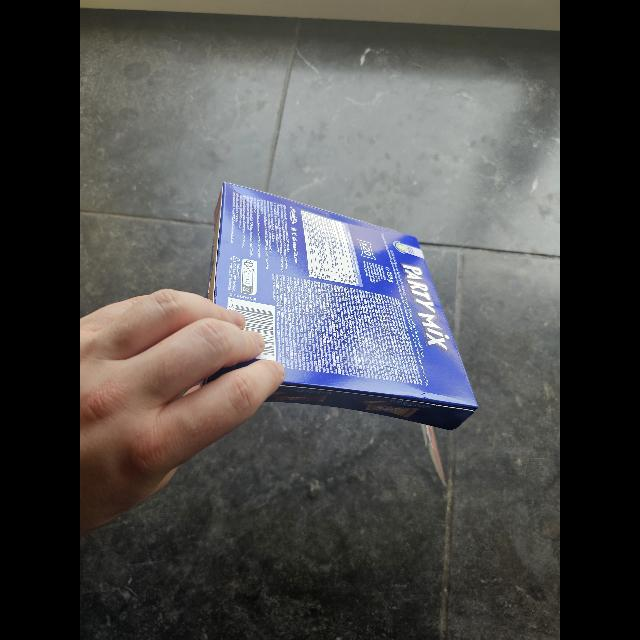Cardboard: (201, 176, 483, 437)
